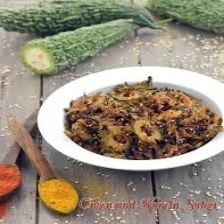sabzi: (57, 73, 224, 163)
